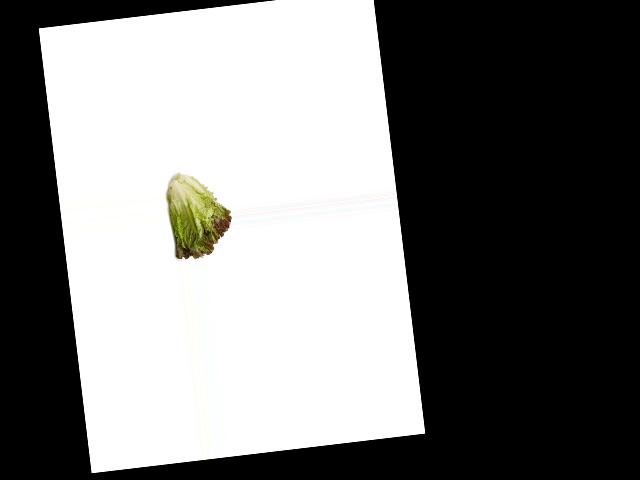lettuce: (165, 169, 234, 262)
